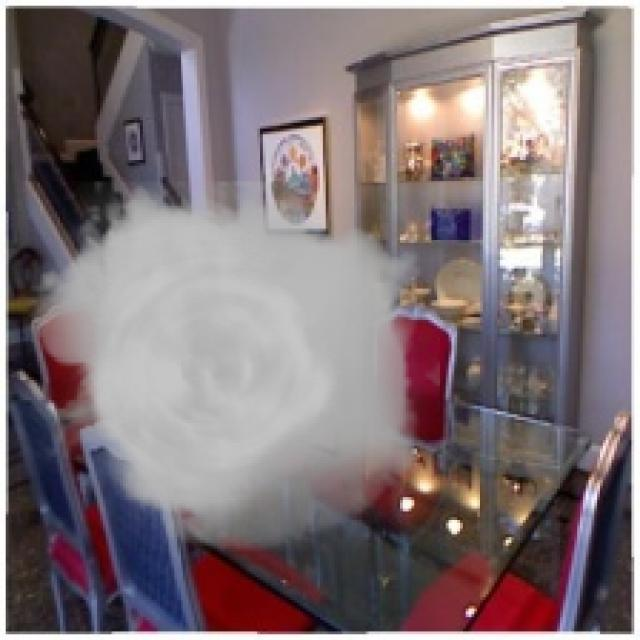smoke: (17, 180, 440, 551)
